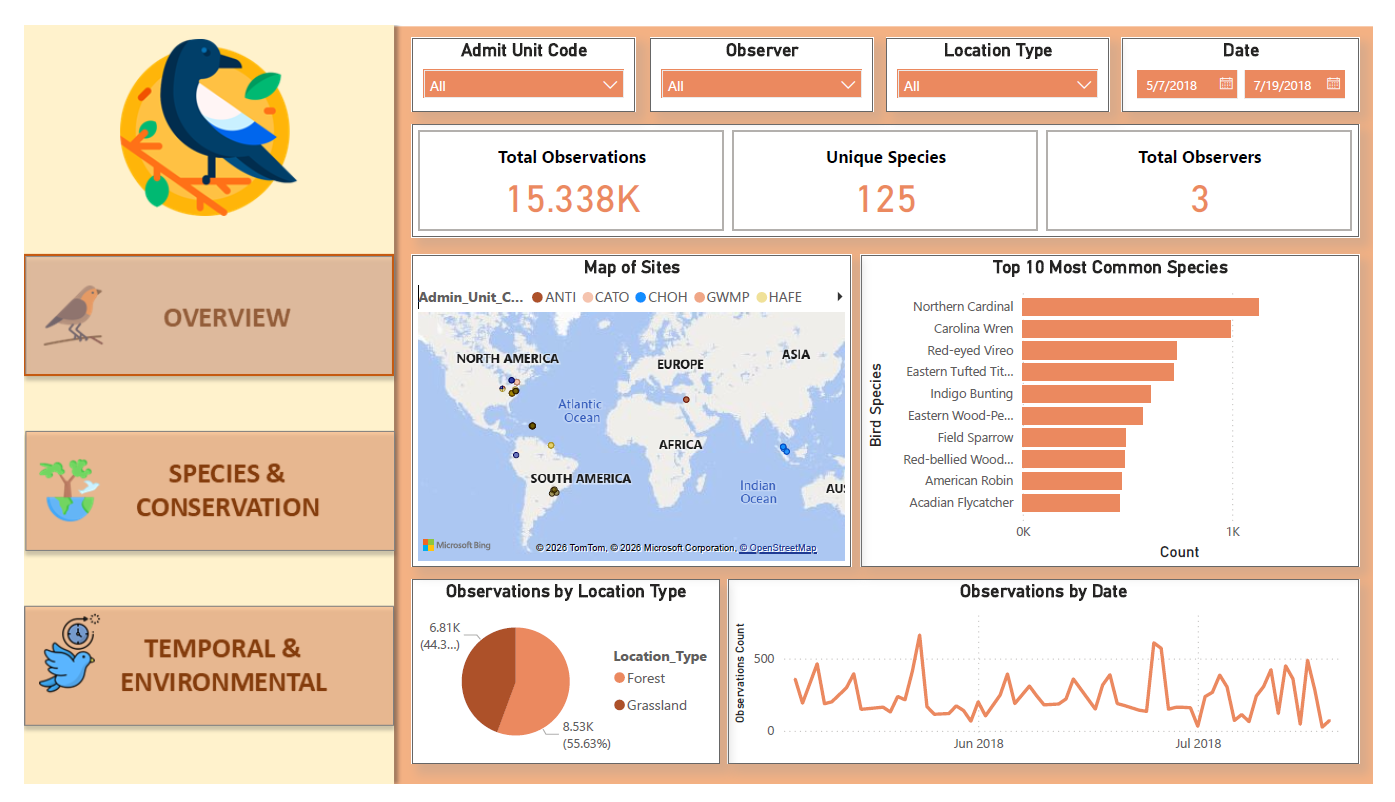

What the dashboard file says about the page in this screenshot:
{"tool":"powerbi","page":{"name":"Page 1","canvas":[1280,720],"ordinal":0},"visuals":[{"type":"slicer","title":"Date","fields":{"Values":["Bird_Monitoring_Clean_Merged_dataset.Date"]},"box":[1042.4,12.1,224.4,70],"z":0},{"type":"cardVisual","fields":{"Data":["CountNonNull(Bird_Monitoring_Clean_Merged_dataset.AOU_Code)","Count(Bird_Monitoring_Clean_Merged_dataset.Common_Name)","Count(Bird_Monitoring_Clean_Merged_dataset.Observer)"]},"box":[368,94.1,898.8,107.4],"z":1000},{"type":"lineChart","title":"Observations by Date","fields":{"Category":["Bird_Monitoring_Clean_Merged_dataset.Date.Variation.Date Hierarchy.Year","Bird_Monitoring_Clean_Merged_dataset.Date.Variation.Date Hierarchy.Month","Bird_Monitoring_Clean_Merged_dataset.Date.Variation.Date Hierarchy.Day"],"Y":["CountNonNull(Bird_Monitoring_Clean_Merged_dataset.Flyover_Observed)"]},"box":[668.4,526,598.4,174.9],"z":2000},{"type":"clusteredBarChart","title":"Top 10 Most Common Species","fields":{"Y":["CountNonNull(Bird_Monitoring_Clean_Merged_dataset.Common_Name)"],"Category":["Bird_Monitoring_Clean_Merged_dataset.Common_Name"]},"box":[793.8,218.4,472.9,295.6],"z":3000},{"type":"pieChart","title":"Observations by Location Type","fields":{"Y":["CountNonNull(Bird_Monitoring_Clean_Merged_dataset.Common_Name)"],"Category":["Bird_Monitoring_Clean_Merged_dataset.Location_Type"]},"box":[368,526,292,174.9],"z":4000},{"type":"map","title":"Map of Sites","fields":{"Category":["Bird_Monitoring_Clean_Merged_dataset.Site_Name"],"Series":["Bird_Monitoring_Clean_Merged_dataset.Admin_Unit_Code"]},"box":[368,218.4,417.4,295.6],"z":5000},{"type":"slicer","title":"Admit Unit Code","fields":{"Values":["Bird_Monitoring_Clean_Merged_dataset.Admin_Unit_Code"]},"box":[368,12.1,212,70],"z":6000},{"type":"slicer","title":"Observer","fields":{"Values":["Bird_Monitoring_Clean_Merged_dataset.Observer"]},"box":[593.6,12.1,212,70],"z":7000},{"type":"slicer","title":"Location Type","fields":{"Values":["Bird_Monitoring_Clean_Merged_dataset.Location_Type"]},"box":[818,12.1,212.3,70],"z":8000},{"type":"actionButton","box":[0,387.3,348.7,114.6],"z":9000},{"type":"actionButton","box":[0,550.1,348.7,113.4],"z":10000}]}

Visuals, with their boxes in screenshot pixels (x1, y1, x2, y2), scaled from the page's 1280x720 canvas onto the 1395x802 screenshot:
"Date" slicer: (1136,13,1381,91)
cardVisual - CountNonNull(Bird_Monitoring_Clean_Merged_dataset.AOU_Code) x Count(Bird_Monitoring_Clean_Merged_dataset.Common_Name): (401,105,1381,224)
"Observations by Date" lineChart: (728,586,1381,781)
"Top 10 Most Common Species" clusteredBarChart: (865,243,1381,573)
"Observations by Location Type" pieChart: (401,586,719,781)
"Map of Sites" map: (401,243,856,573)
"Admit Unit Code" slicer: (401,13,632,91)
"Observer" slicer: (647,13,878,91)
"Location Type" slicer: (891,13,1123,91)
actionButton: (0,431,380,559)
actionButton: (0,613,380,739)
